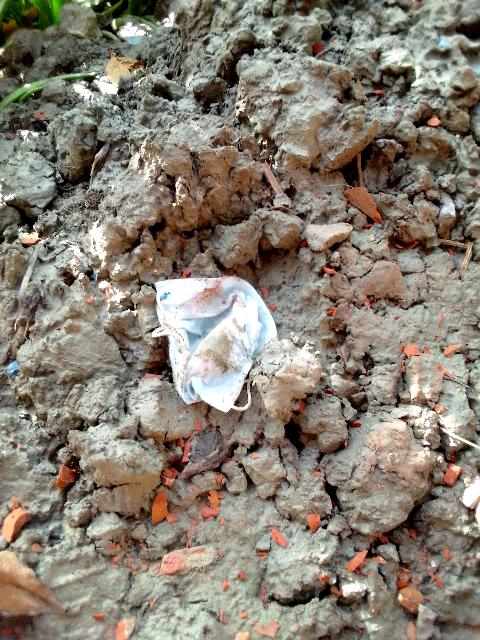mask: (168, 273, 257, 403)
